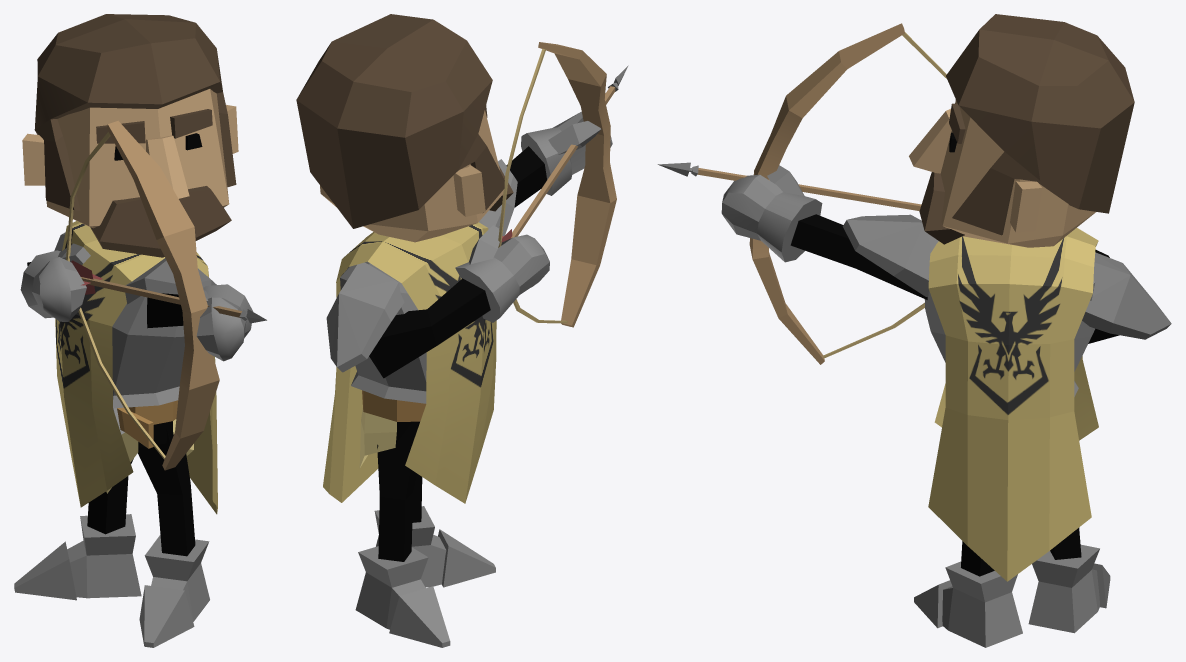
3 renders of one model, left to right at view 1: azimuth 30°, elevation 25°; view 2: azimuth 150°, elevation 25°; view 3: azimuth 270°, elevation 25°, orthographic. The views are drawn at different scales.
Parts seen in each view (by area): view 1: Soldier_11; view 2: Soldier_11; view 3: Soldier_11.
Boxes of the visible parts, x1,y1,x2,y2 form: Soldier_11: (14, 14, 266, 647); Soldier_11: (296, 14, 628, 647); Soldier_11: (657, 14, 1171, 647).
Size of the model in its own units: 0.691 by 1.72 by 1.36.
Materials: 11 (1 with a texture image).
